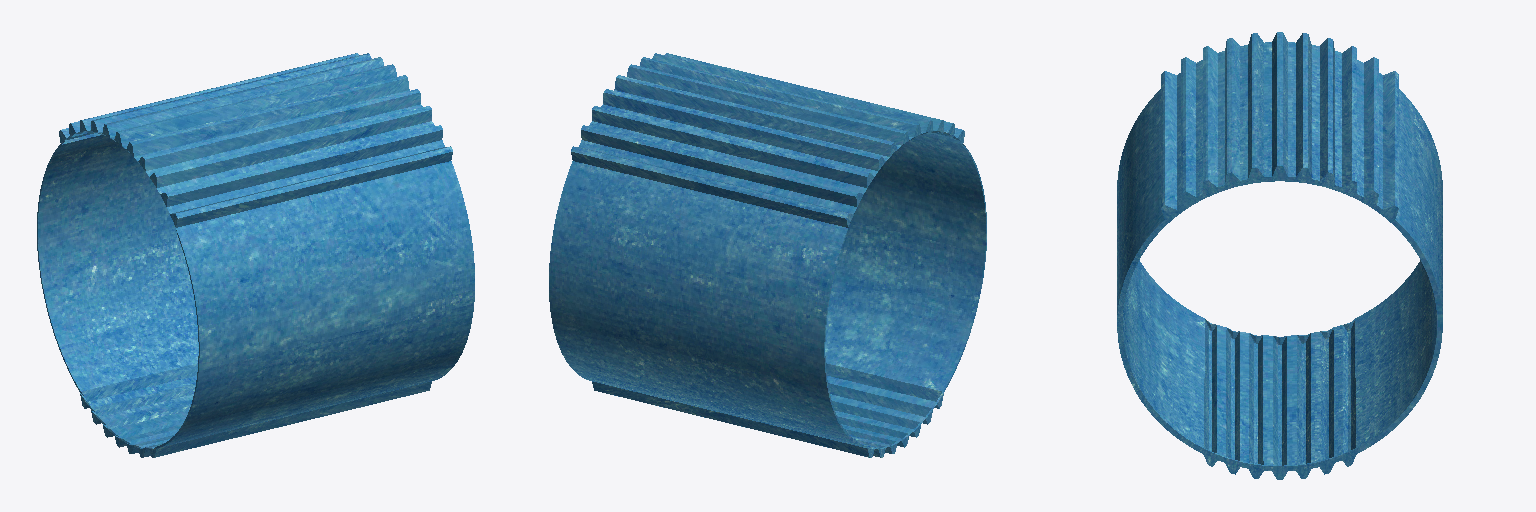
The picture shows the model from 3 angles: view 1: azimuth 30°, elevation 25°; view 2: azimuth 150°, elevation 25°; view 3: azimuth 270°, elevation 25°; orthographic projection.
Visible parts, largest first — view 1: Cylinder; view 2: Cylinder; view 3: Cylinder.
Part boxes in pixels (x1,y1,x2,y2): Cylinder: (37,53,474,457); Cylinder: (549,53,986,457); Cylinder: (1117,32,1442,479).
Bounding box in the file's own units: 0.1153 × 0.1257 × 0.118.
1 materials, 1 textured.